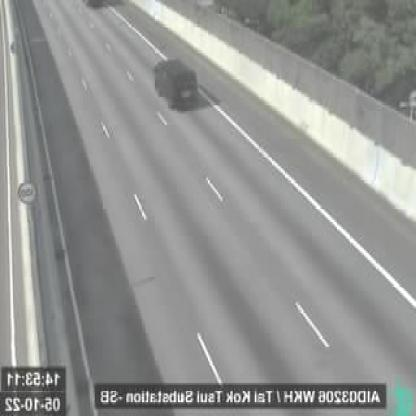Car: (155, 59, 200, 107)
